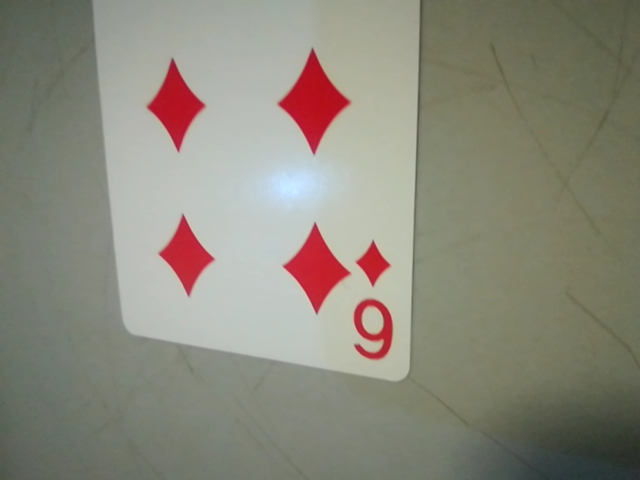fk 6: (340, 232, 405, 370)
